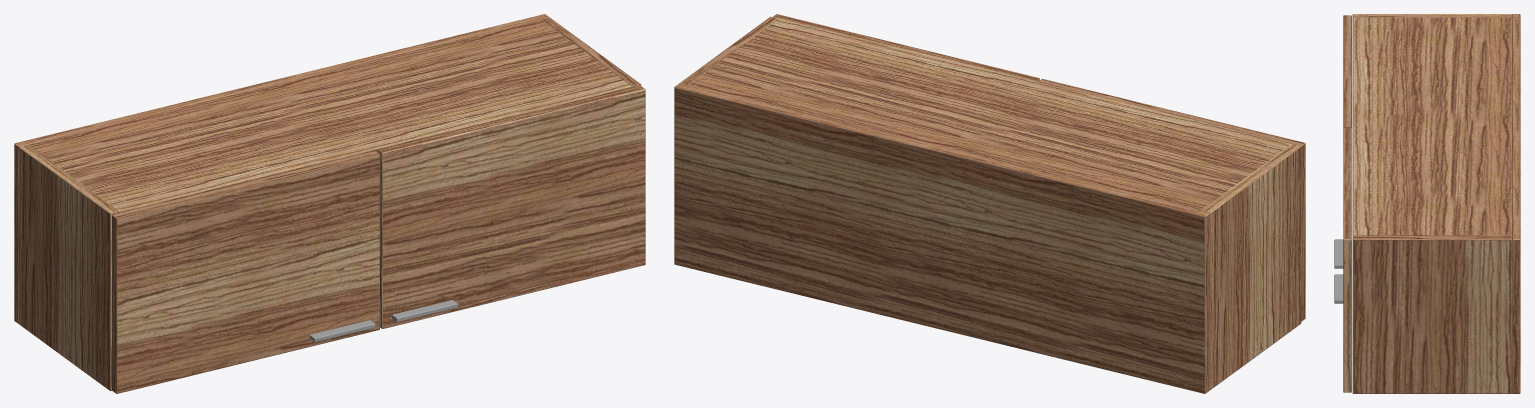
Rendered from hinged_door_1oh_120_line_handle_ANIM_FINAL.fbx.
The picture shows the model from 3 angles, left to right: view 1: azimuth 30°, elevation 25°; view 2: azimuth 150°, elevation 25°; view 3: azimuth 270°, elevation 25°; orthographic projection. The views are drawn at different scales.
Visible parts, largest first — view 1: drewno, polySurface317, polySurface245, polySurface365, polySurface293; view 2: drewno, polySurface317, polySurface245; view 3: drewno, polySurface245, polySurface317, polySurface293, polySurface365.
Part boxes in pixels (bbox=[...]): drewno: bbox=[14, 14, 641, 391]; polySurface317: bbox=[112, 151, 379, 393]; polySurface245: bbox=[377, 86, 645, 328]; polySurface365: bbox=[309, 320, 375, 342]; polySurface293: bbox=[392, 300, 457, 322]; drewno: bbox=[674, 16, 1301, 393]; polySurface317: bbox=[1038, 79, 1305, 321]; polySurface245: bbox=[772, 14, 1039, 81]; drewno: bbox=[1352, 14, 1520, 393]; polySurface245: bbox=[1343, 128, 1351, 392]; polySurface317: bbox=[1343, 15, 1351, 128]; polySurface293: bbox=[1334, 274, 1343, 303]; polySurface365: bbox=[1334, 239, 1343, 268].
Size of the model in its own units: 3.05 by 0.9754 by 1.06.
